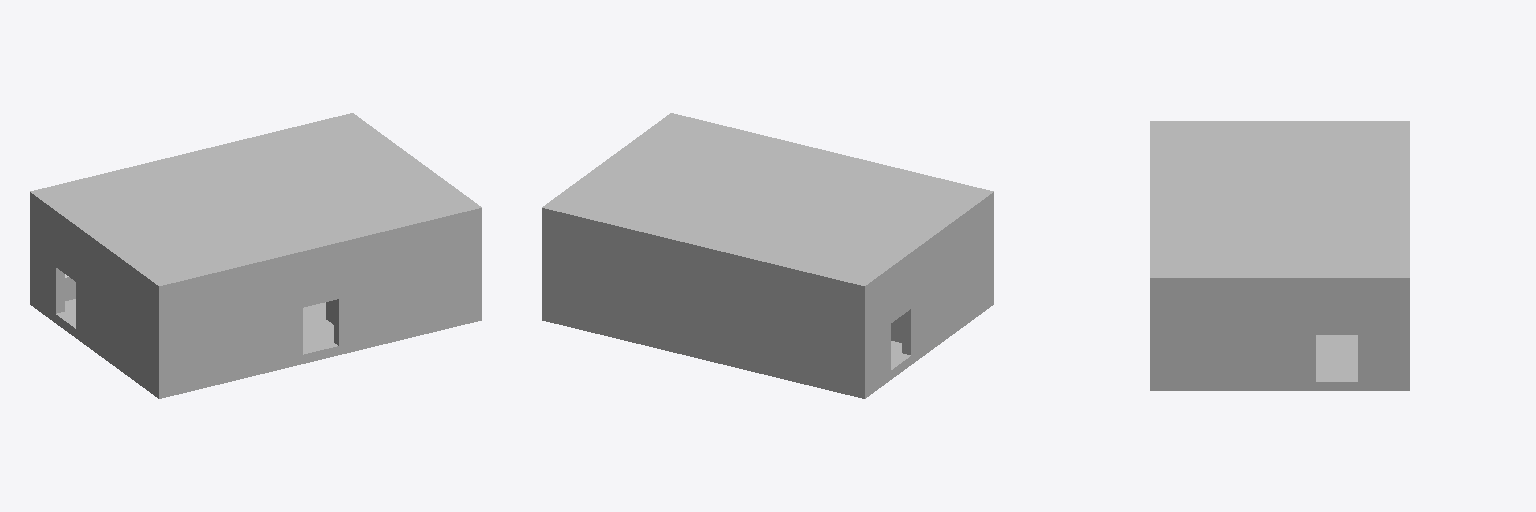
Rendered from samguri_bokdo.obj.
The picture shows the model from 3 angles: view 1: azimuth 30°, elevation 25°; view 2: azimuth 150°, elevation 25°; view 3: azimuth 270°, elevation 25°; orthographic projection.
Parts seen in each view (by area): view 1: Cube.027, Cube.005, Cube.004, Cube.001, Cube, Cube.008, Cube.028, Cube.030; view 2: Cube.027, Cube.002, Cube.001, Cube, Cube.008, Cube.030, Cube.010; view 3: Cube.027, Cube.003, Cube.010, Cube, Cube.029, Cube.004.
Part boxes in pixels (x1,y1,x2,y2): Cube.027: (30,113,481,295); Cube.005: (154,261,302,389); Cube.004: (334,217,481,345); Cube.001: (76,235,153,385); Cube: (30,296,481,398); Cube.008: (30,202,64,313); Cube.028: (303,252,338,307); Cube.030: (56,221,75,281); Cube.027: (542,113,993,295); Cube.002: (551,219,855,387); Cube.001: (902,205,988,355); Cube: (542,296,993,398); Cube.008: (856,277,890,389); Cube.030: (891,262,910,322); Cube.010: (542,217,550,312); Cube.027: (1150,121,1409,287); Cube.003: (1161,288,1315,381); Cube.010: (1358,288,1409,381); Cube: (1150,335,1409,390); Cube.029: (1316,288,1357,334); Cube.004: (1150,288,1160,381).
Size of the model in its own units: 36 by 12 by 25.